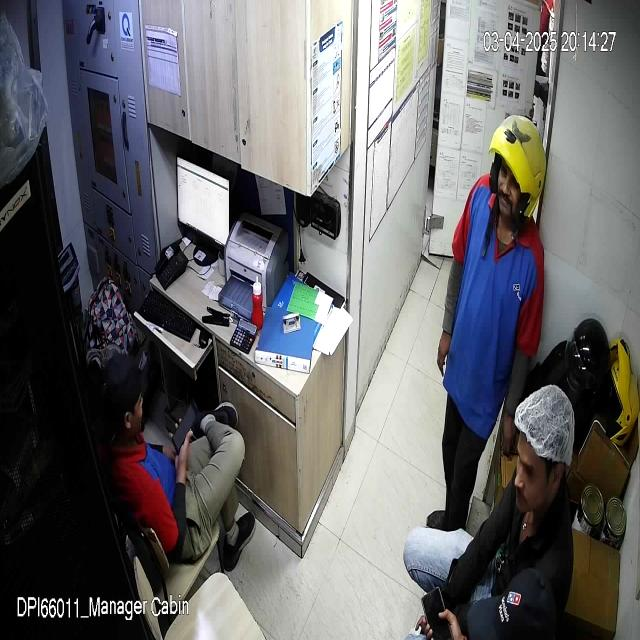helmet: (488, 113, 546, 227), (564, 316, 609, 400), (606, 338, 640, 446)
no_helmet: (513, 387, 573, 514), (104, 353, 143, 437)
